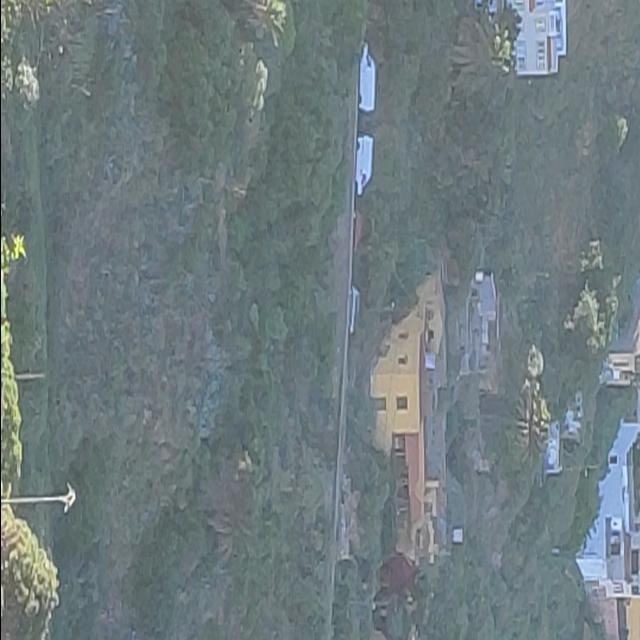Palm-Trees: (447, 9, 517, 110)
